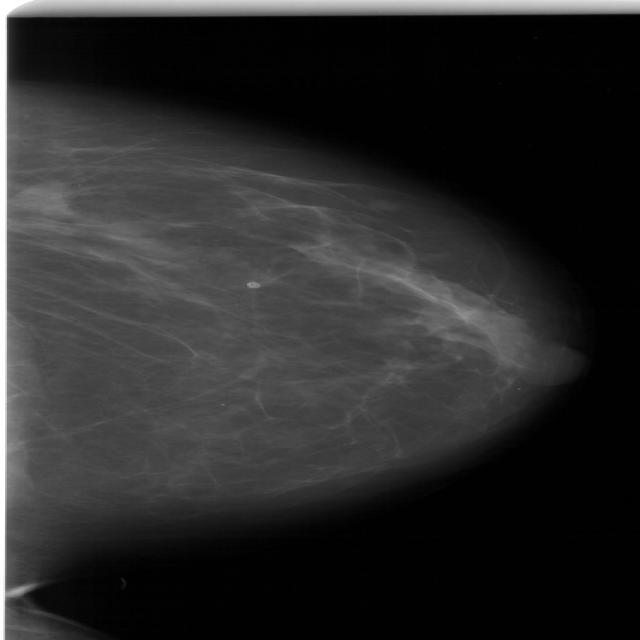tumour: (10, 182, 70, 218)
